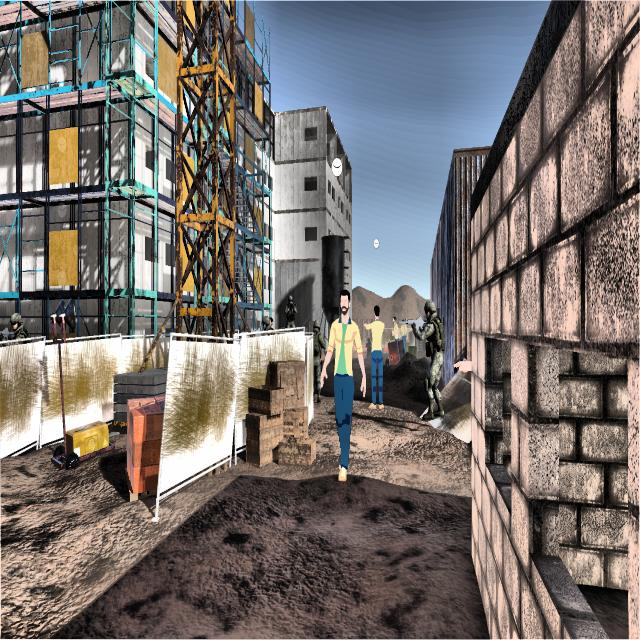bad: (416, 289, 447, 412), (309, 311, 324, 402), (1, 301, 29, 344), (284, 282, 296, 330), (259, 308, 274, 338)
good: (320, 281, 366, 483), (362, 294, 391, 413), (388, 306, 400, 345), (401, 314, 410, 349)
